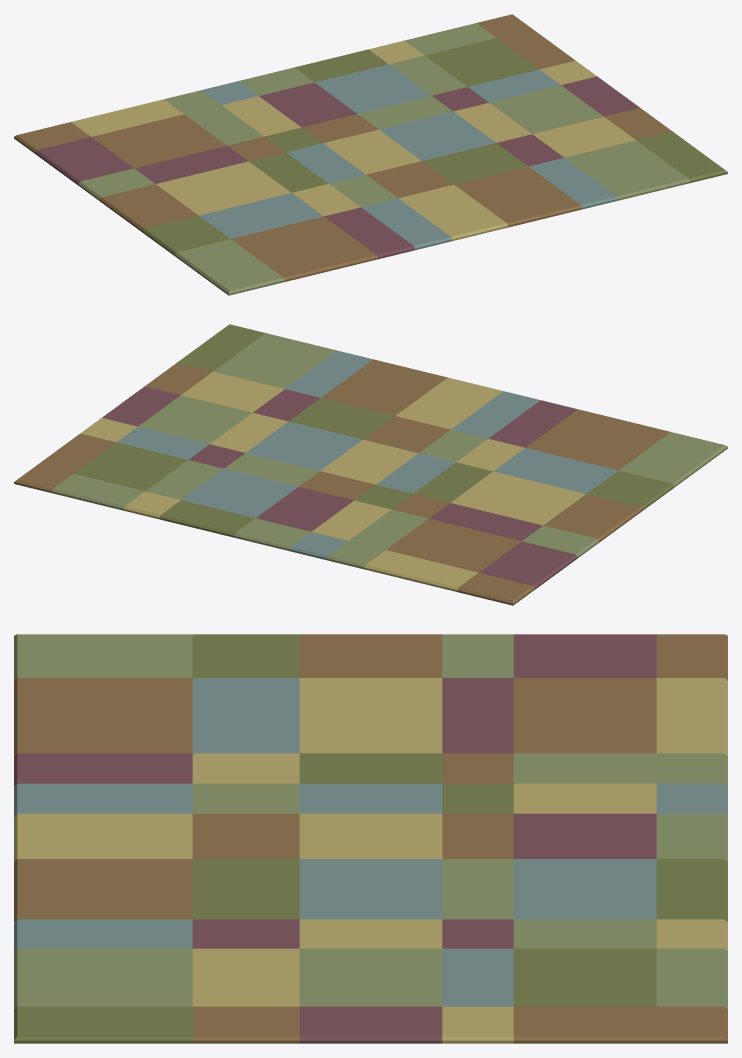
Rendered from Rug_LivingRoom.fbx.
3 views of the same model, one above another, from view 1: azimuth 30°, elevation 25°; view 2: azimuth 150°, elevation 25°; view 3: azimuth 270°, elevation 25° (orthographic). The views are drawn at different scales.
Parts seen in each view (by area): view 1: Rug_LivingRoom; view 2: Rug_LivingRoom; view 3: Rug_LivingRoom.
Boxes of the visible parts, x1,y1,x2,y2 form: Rug_LivingRoom: [14, 14, 727, 295]; Rug_LivingRoom: [14, 324, 727, 605]; Rug_LivingRoom: [14, 634, 727, 1043].
Size of the model in its own units: 447 by 3.18 by 333.
